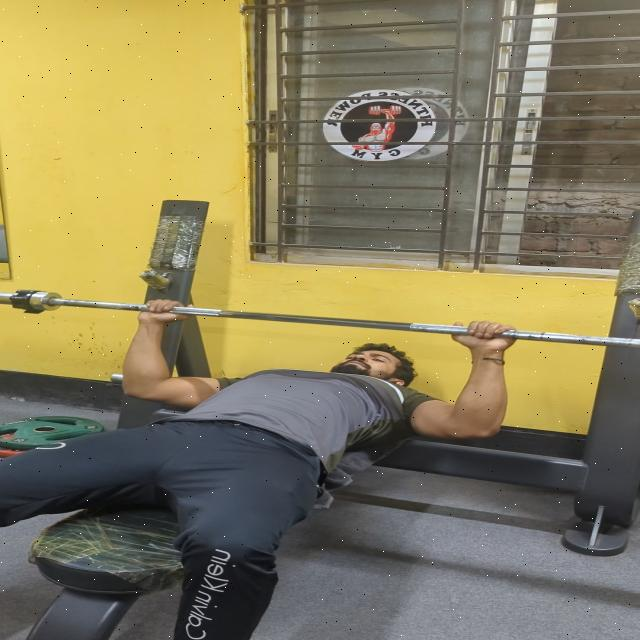Normal_BrenchPress: (0, 246, 550, 640)
